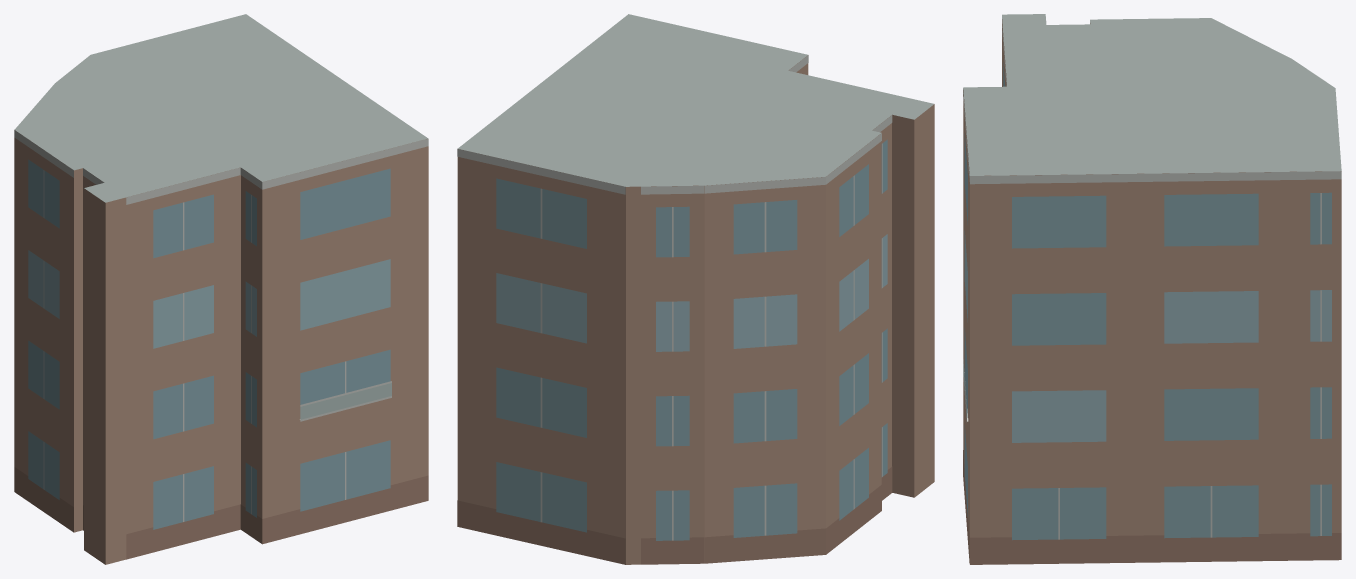
File: survey-upis-32724268.glb
3 views of the same model, side by side, from view 1: azimuth 30°, elevation 25°; view 2: azimuth 150°, elevation 25°; view 3: azimuth 270°, elevation 25° (orthographic). The views are drawn at different scales.
Visible parts, largest first — view 1: survey-upis-32724268.tmp; view 2: survey-upis-32724268.tmp; view 3: survey-upis-32724268.tmp.
Boxes of the visible parts, box(x1,y1,x2,y2) form: survey-upis-32724268.tmp: box(14, 14, 428, 564); survey-upis-32724268.tmp: box(457, 14, 934, 564); survey-upis-32724268.tmp: box(963, 14, 1341, 564).
Bounding box in the file's own units: 10.28 × 11.5 × 10.15.
